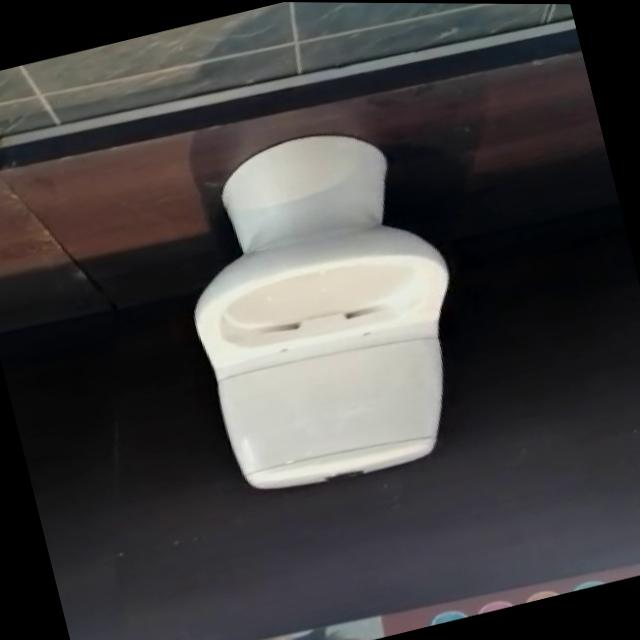toilet: (155, 108, 492, 506)
